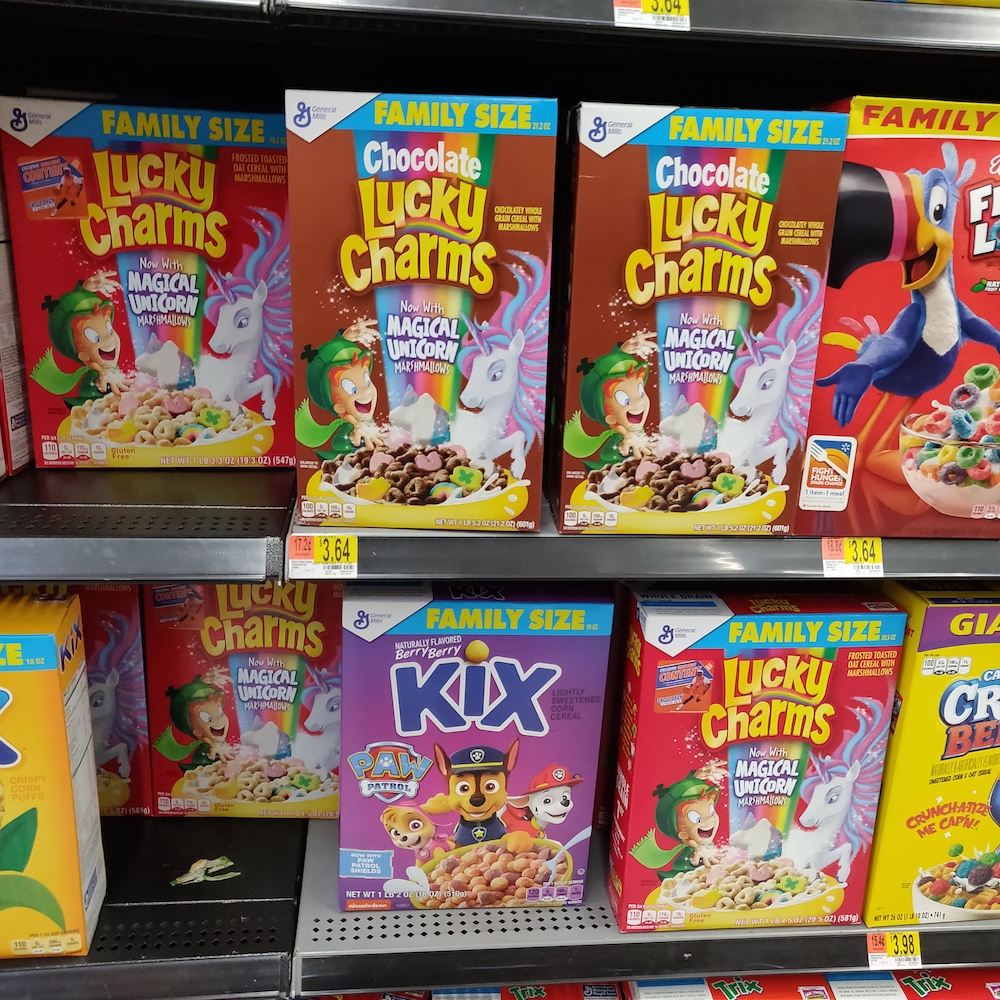Kix Berry -568919964: (332, 617, 606, 899)
